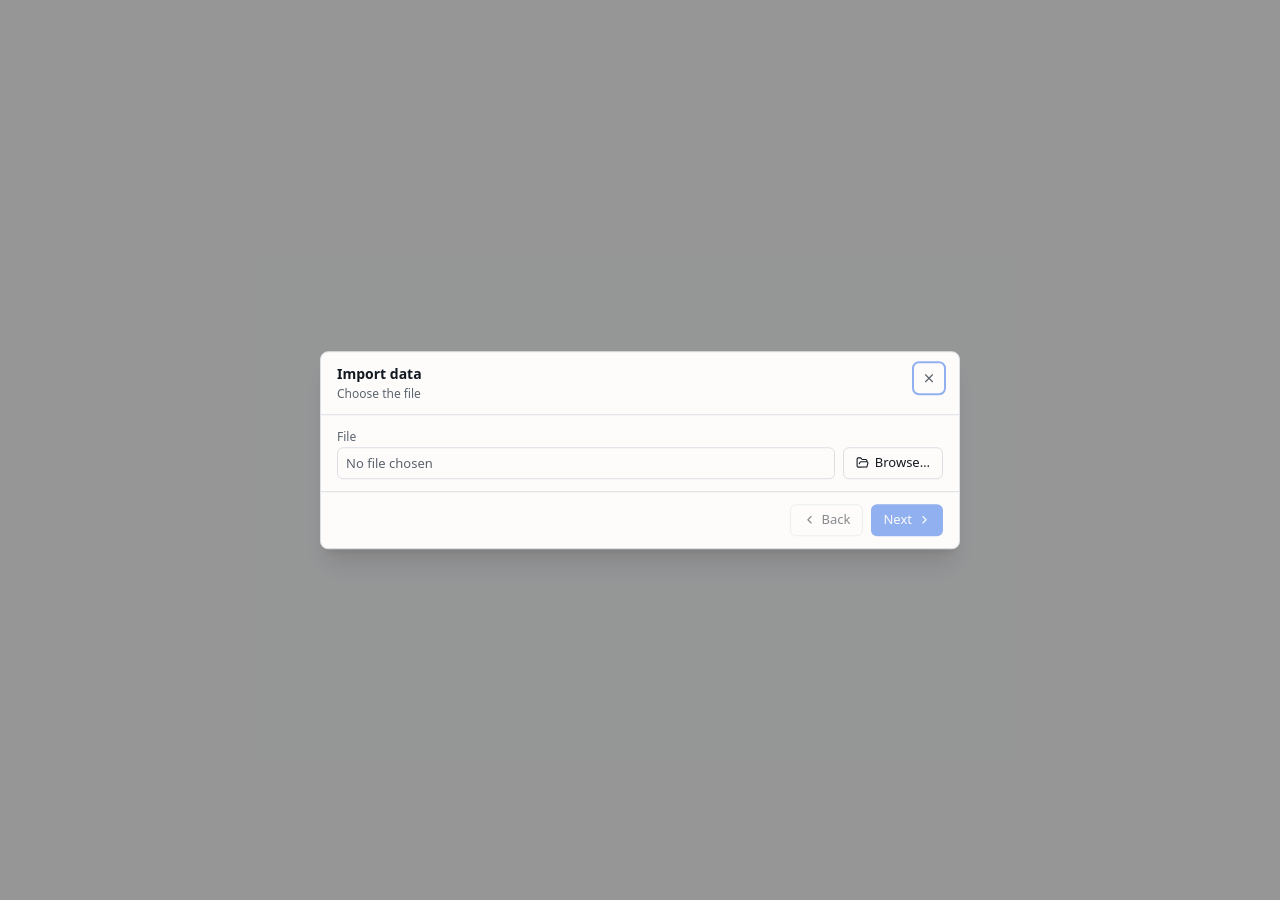
ImportWizard › previews a CSV, maps columns onto the table and starts the job
Later steps or results of the test are not shown.
What coordinates should you click on to do the following:
click the button "Browse…"
I would click on:
 (893, 463)
Its box is [843,447,943,479].
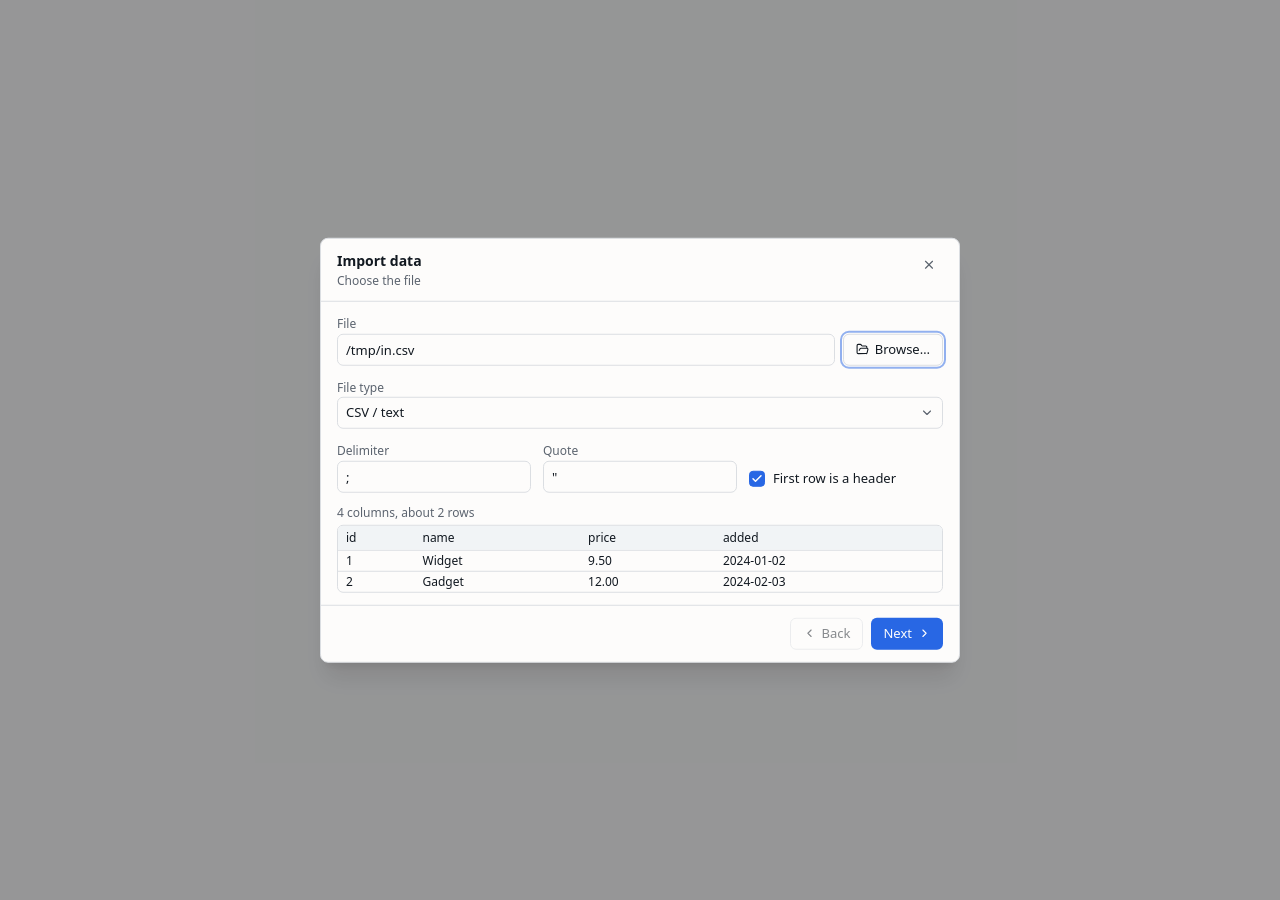
expect the field labelled "File" holds "/tmp/in.csv": met, box [337,333,835,365]
expect the table with test id "import-preview" shows "Widget": met, box [422,551,463,568]
expect the field labelled "Delimiter" holds ";": met, box [337,460,531,492]
What coordinates should you click on to do the following:
click the button "Next"
I would click on:
 (907, 633)
Its box is [872,617,943,649].
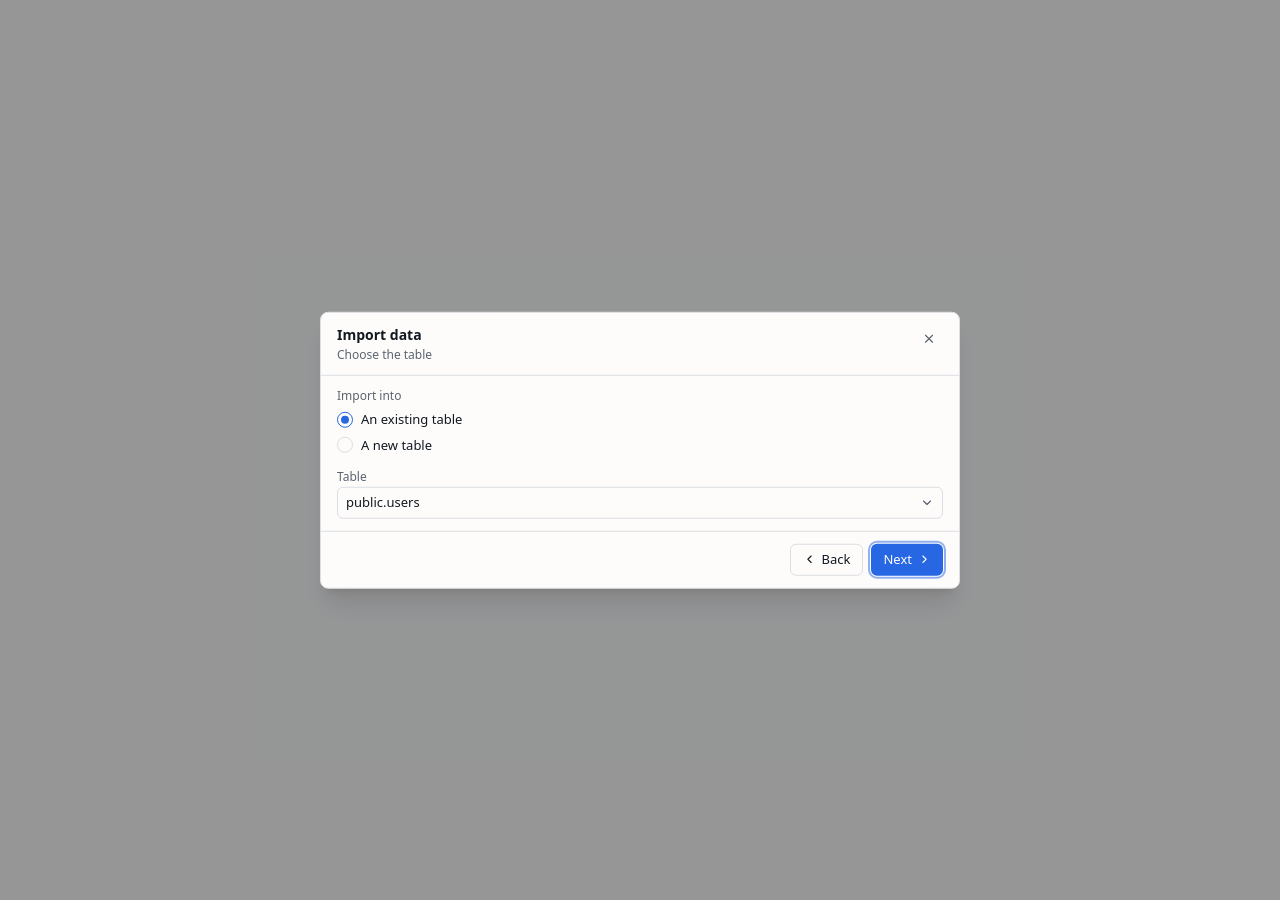
What coordinates should you click on to do the following:
click the button "Next"
I would click on:
 (907, 559)
Its box is [872,543,943,575].
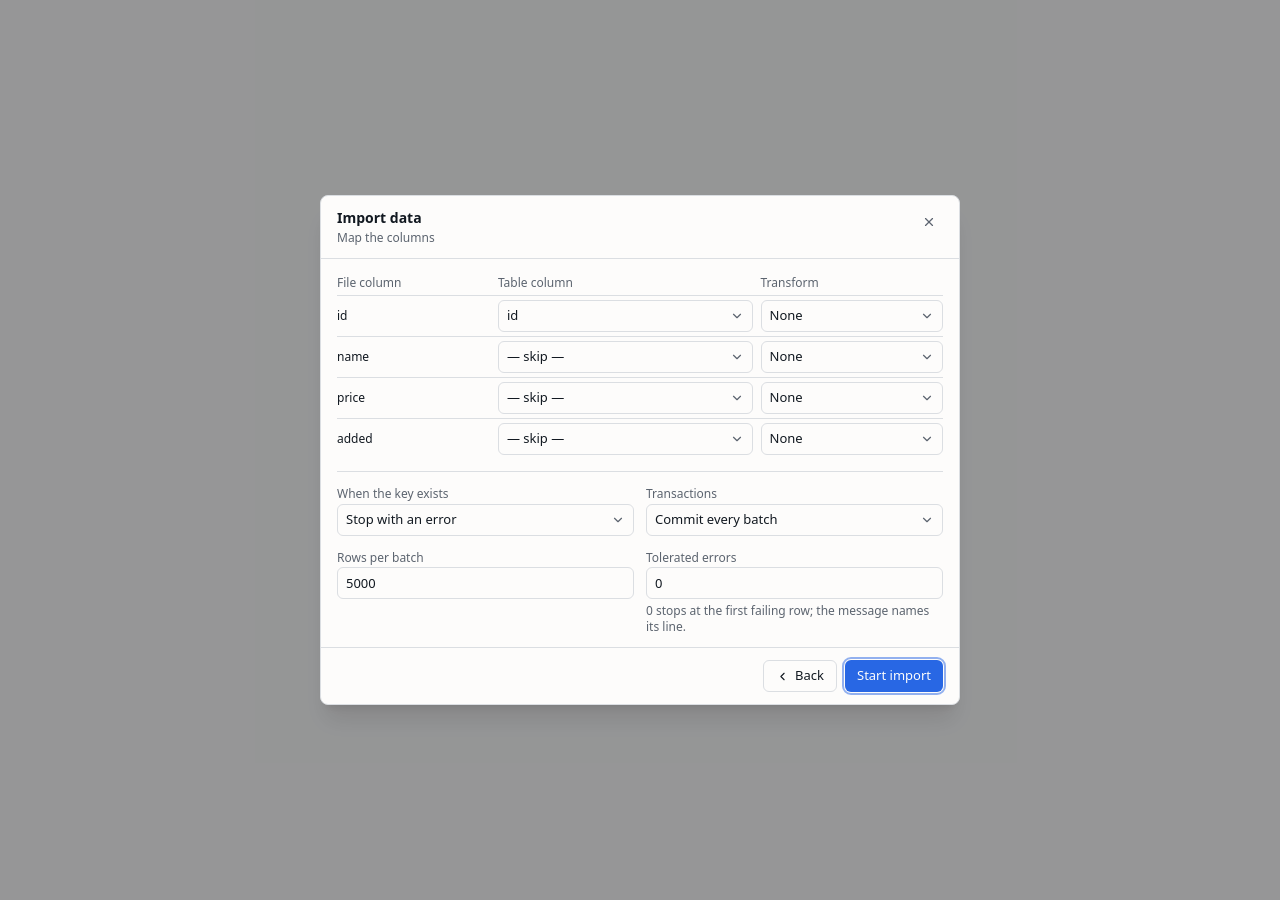
expect the number of rows is 5: met, box [337,271,943,296]; [337,296,943,336]; [337,336,943,378]; [337,378,943,418]; [337,418,943,459]
